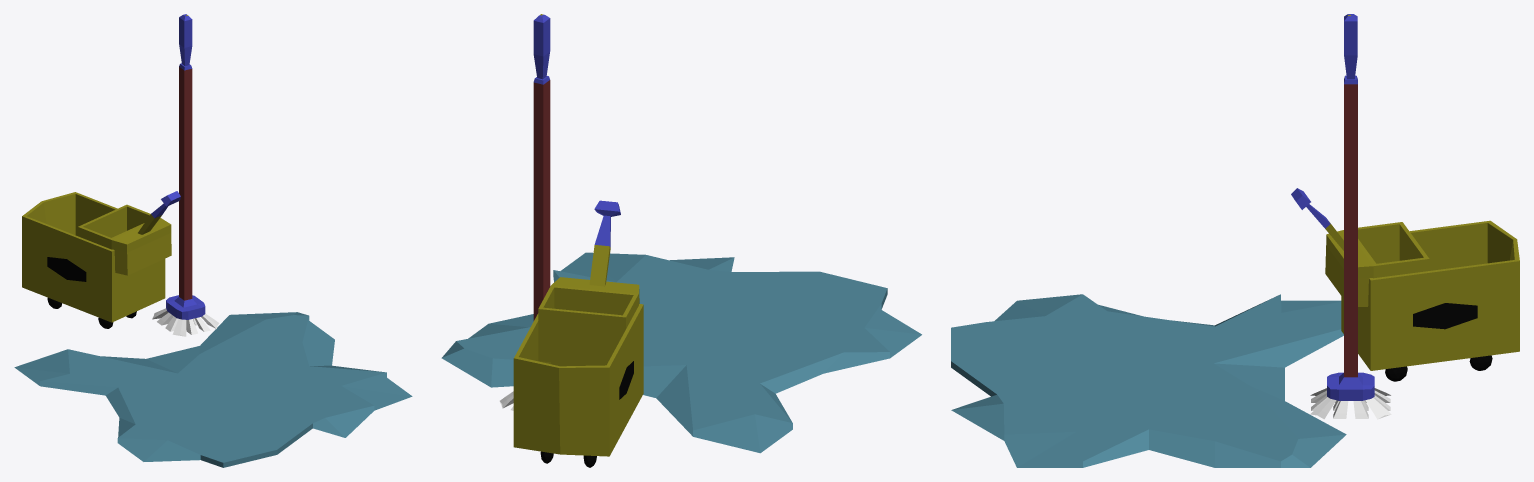
File: MOP.fbx
3 views of the same model, side by side, from view 1: azimuth 30°, elevation 25°; view 2: azimuth 150°, elevation 25°; view 3: azimuth 270°, elevation 25° (orthographic). The views are drawn at different scales.
Visible parts, largest first — view 1: Cube; view 2: Cube; view 3: Cube.
Boxes of the visible parts, box(x1,y1,x2,y2) form: Cube: box(14, 14, 412, 467); Cube: box(441, 14, 921, 467); Cube: box(951, 14, 1519, 467).
Size of the model in its own units: 200 by 219 by 287.
